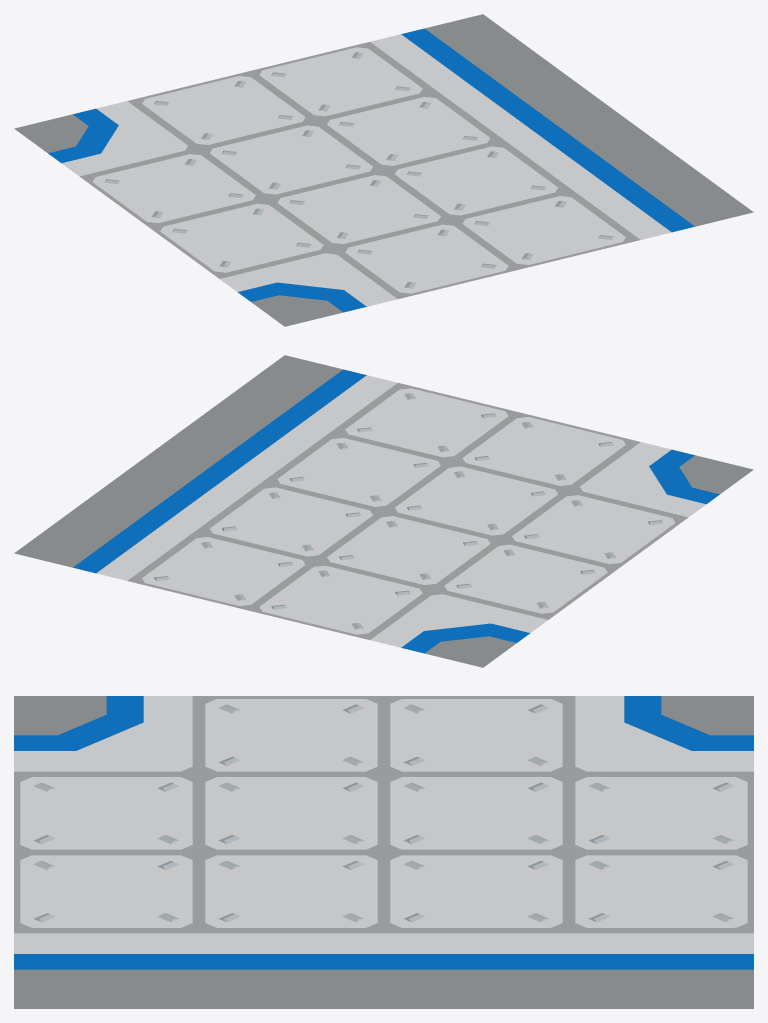
File: floor_1x1.glb
3 views of the same model, one above another, from view 1: azimuth 30°, elevation 25°; view 2: azimuth 150°, elevation 25°; view 3: azimuth 270°, elevation 25° (orthographic). The views are drawn at different scales.
Visible parts, largest first — view 1: Floor_type_A_001; view 2: Floor_type_A_001; view 3: Floor_type_A_001.
Boxes of the visible parts, box(x1,y1,x2,y2) form: Floor_type_A_001: box(14, 14, 753, 326); Floor_type_A_001: box(14, 355, 753, 667); Floor_type_A_001: box(14, 696, 753, 1008).
Size of the model in its own units: 4 by 0.008 by 4.
2 materials, 2 textured.
